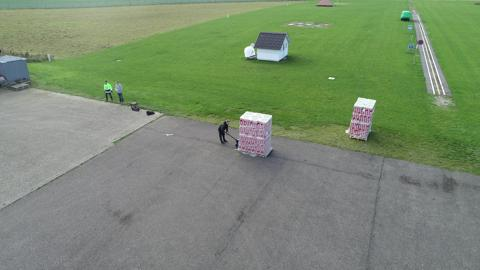RockwoolPallet: (240, 110, 276, 159)
